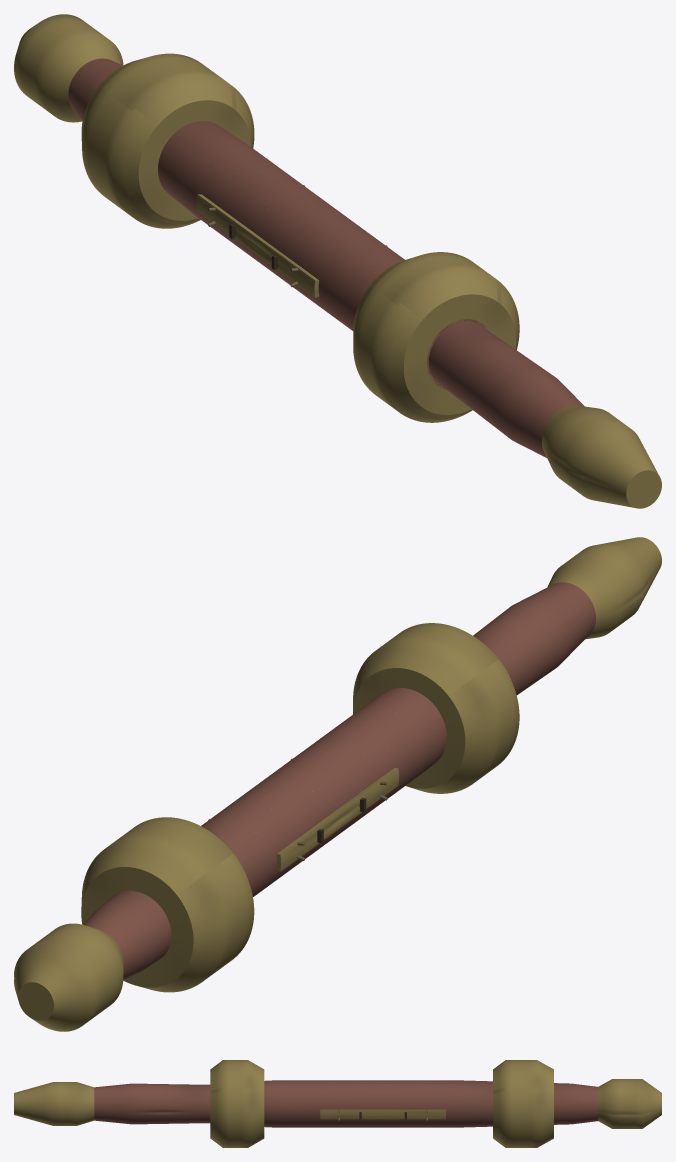
The picture shows the model from 3 angles, top to bottom: view 1: azimuth 30°, elevation 25°; view 2: azimuth 150°, elevation 25°; view 3: azimuth 270°, elevation 25°; orthographic projection. The views are drawn at different scales.
Parts seen in each view (by area): view 1: Braccatian Volcano copper main shaft, Braccatian Volcano gold collar 1, Braccatian Volcano gold collar 0, Braccatian Volcano copper neck, Braccatian Volcano forward gold end, Braccatian Volcano rear gold end, Braccatian Volcano service cover 1; view 2: Braccatian Volcano copper main shaft, Braccatian Volcano gold collar 1, Braccatian Volcano gold collar 0, Braccatian Volcano rear gold end, Braccatian Volcano copper neck, Braccatian Volcano forward gold end, Braccatian Volcano service cover 1; view 3: Braccatian Volcano copper main shaft, Braccatian Volcano gold collar 1, Braccatian Volcano copper neck, Braccatian Volcano gold collar 0, Braccatian Volcano forward gold end, Braccatian Volcano rear gold end, Braccatian Volcano service cover 0.
Part boxes in pixels (x1=…): Braccatian Volcano copper main shaft: x1=68, y1=58, x2=486, y2=389; Braccatian Volcano gold collar 1: x1=81, y1=53, x2=254, y2=228; Braccatian Volcano gold collar 0: x1=353, y1=252, x2=519, y2=422; Braccatian Volcano copper neck: x1=429, y1=321, x2=584, y2=457; Braccatian Volcano forward gold end: x1=542, y1=405, x2=661, y2=508; Braccatian Volcano rear gold end: x1=14, y1=14, x2=123, y2=122; Braccatian Volcano service cover 1: x1=196, y1=194, x2=319, y2=297; Braccatian Volcano copper main shaft: x1=83, y1=688, x2=446, y2=979; Braccatian Volcano gold collar 1: x1=81, y1=817, x2=254, y2=992; Braccatian Volcano gold collar 0: x1=353, y1=623, x2=519, y2=793; Braccatian Volcano rear gold end: x1=14, y1=923, x2=123, y2=1031; Braccatian Volcano copper neck: x1=473, y1=582, x2=595, y2=695; Braccatian Volcano forward gold end: x1=547, y1=537, x2=661, y2=639; Braccatian Volcano service cover 1: x1=276, y1=768, x2=398, y2=871; Braccatian Volcano copper main shaft: x1=264, y1=1080, x2=598, y2=1127; Braccatian Volcano gold collar 1: x1=493, y1=1060, x2=553, y2=1147; Braccatian Volcano copper neck: x1=94, y1=1083, x2=210, y2=1124; Braccatian Volcano gold collar 0: x1=210, y1=1060, x2=264, y2=1147; Braccatian Volcano forward gold end: x1=14, y1=1082, x2=94, y2=1125; Braccatian Volcano rear gold end: x1=598, y1=1079, x2=661, y2=1128; Braccatian Volcano service cover 0: x1=320, y1=1109, x2=445, y2=1119.
Bounding box in the file's own units: 0.28 × 0.28 × 2.06.
4 materials, 3 textured.
